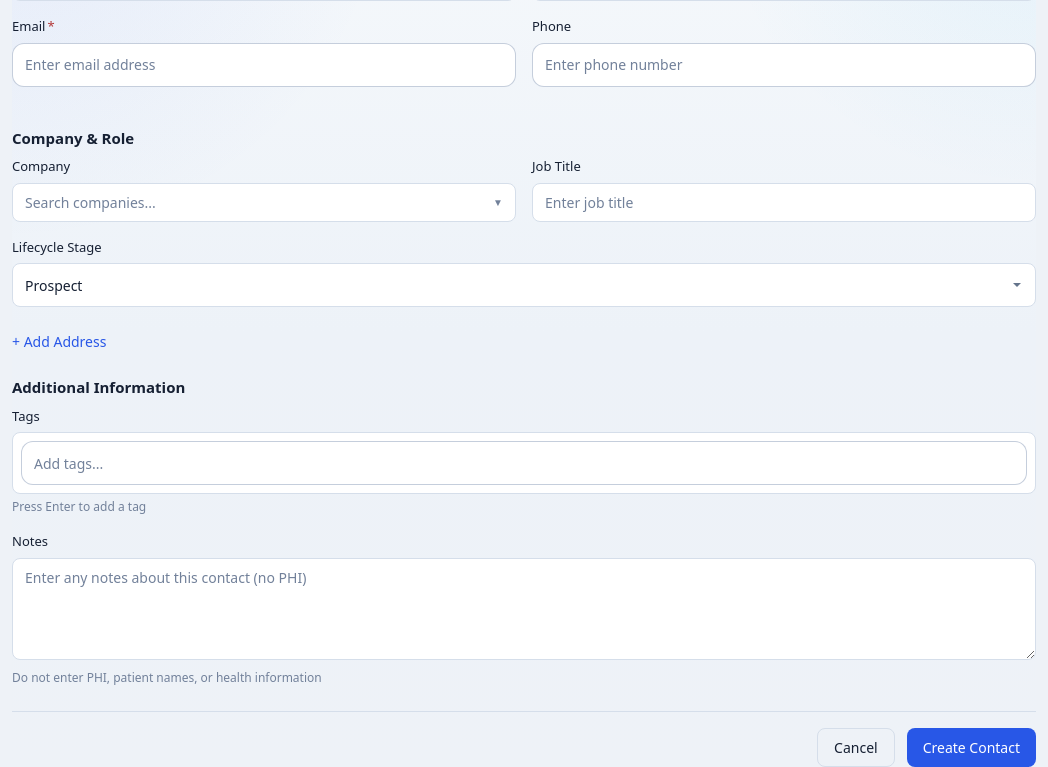
Test: ContactForm › validates required fields
(page scrolled)
Submit empty form
Click the button "Create Contact". click: point(971, 747)
box: [907,728,1036,766]
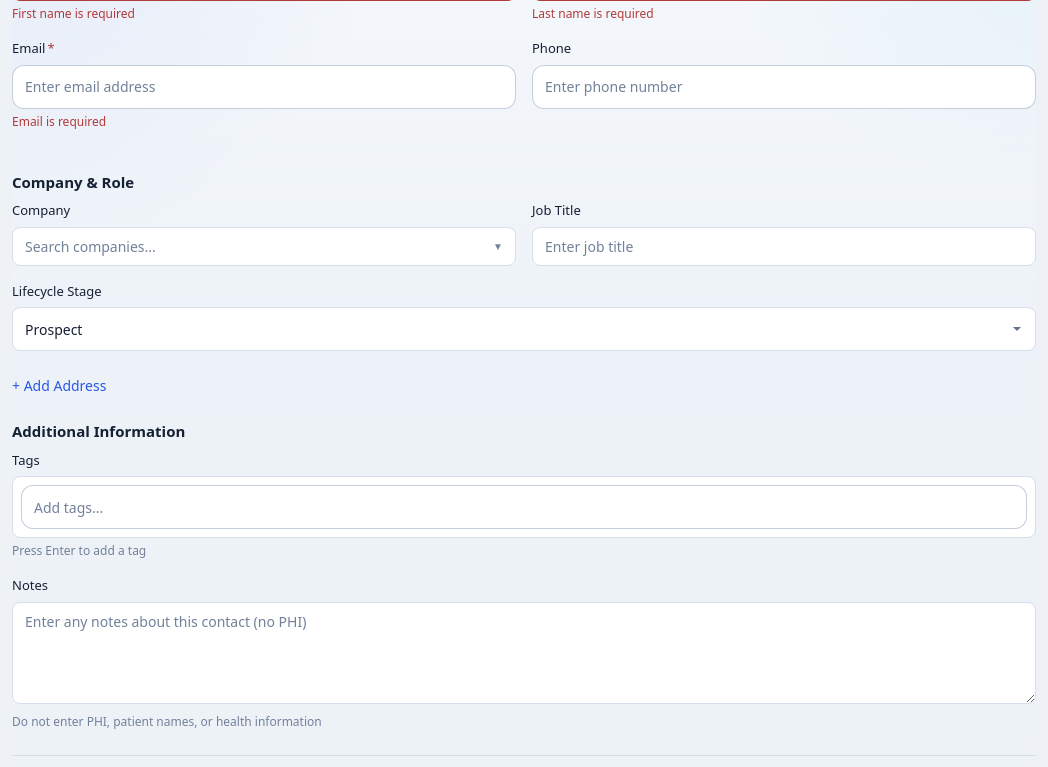
Check: the text "First name is required" is shown, box [12,5,135,22]
Check: the text "Last name is required" is shown, box [532,5,654,22]
Check: the text "Email is required" is shown, box [12,112,106,130]
